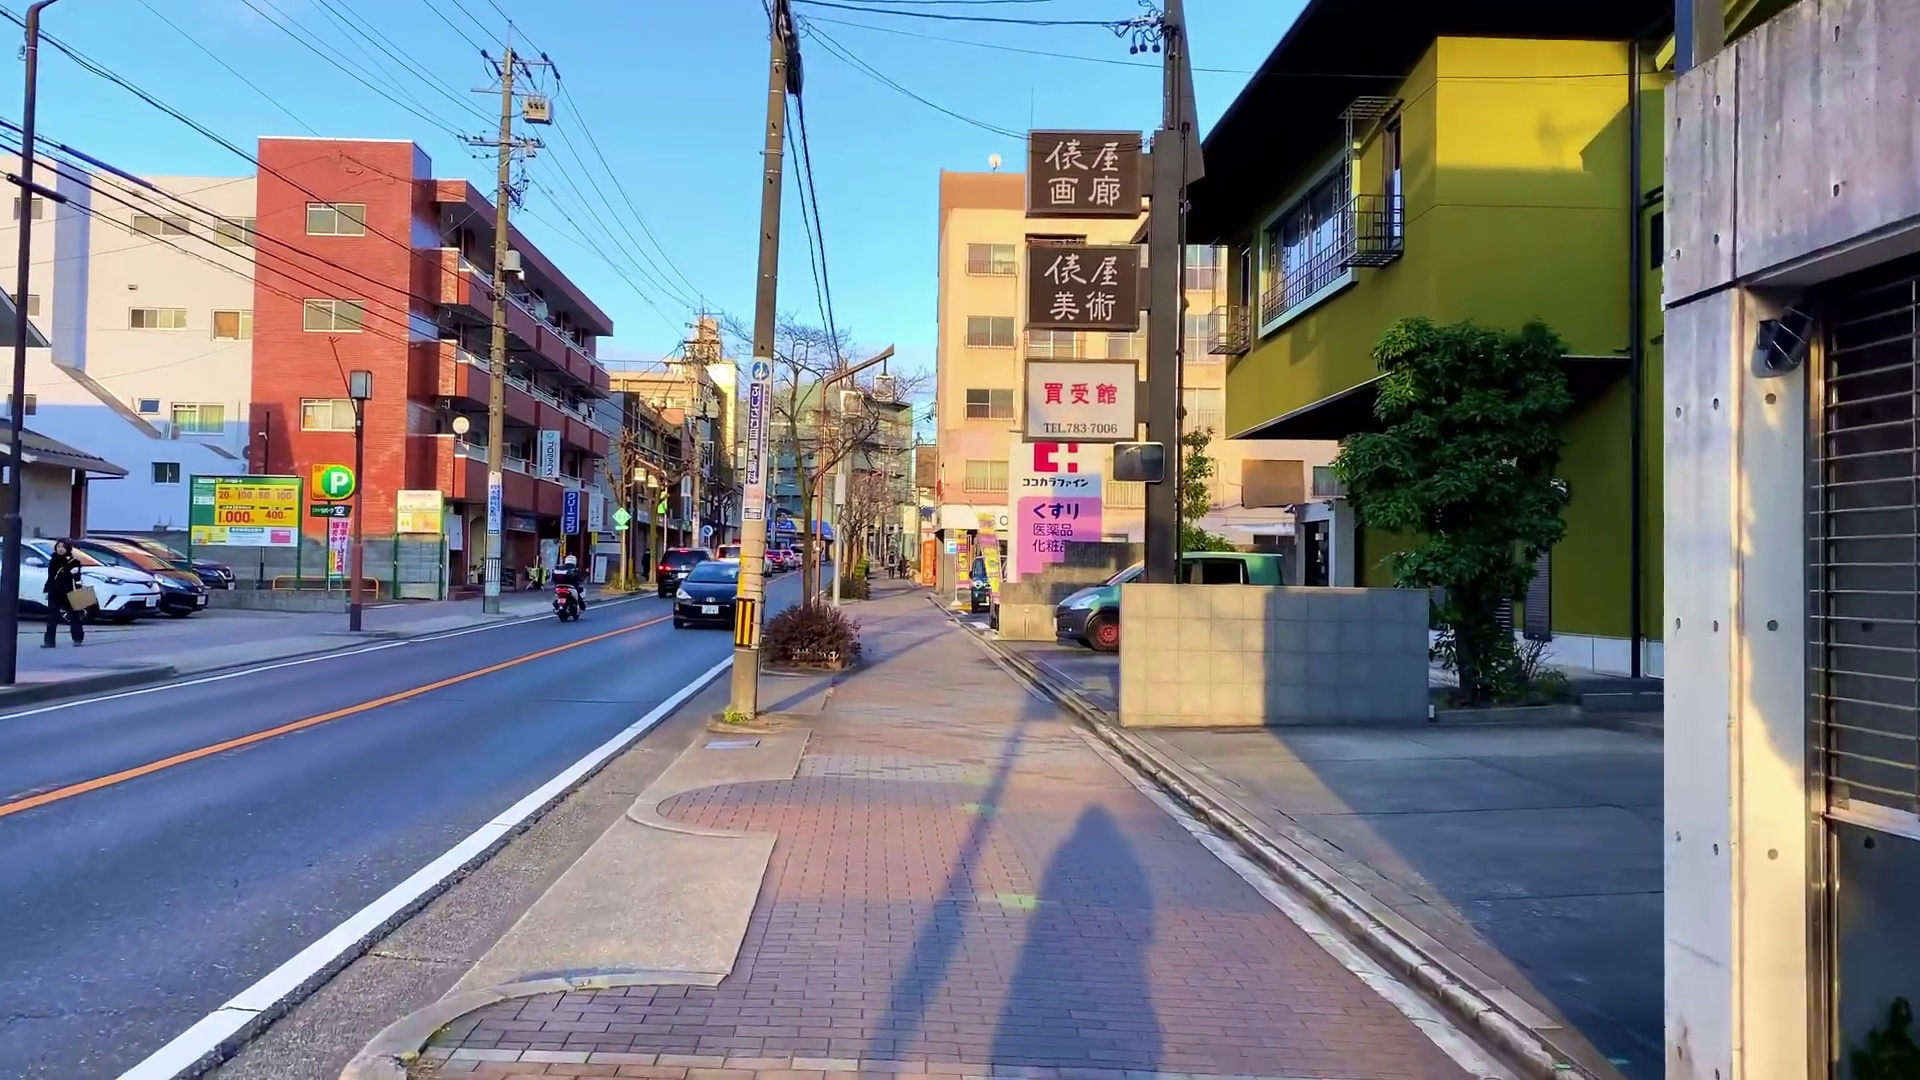person: (41, 540, 88, 649)
